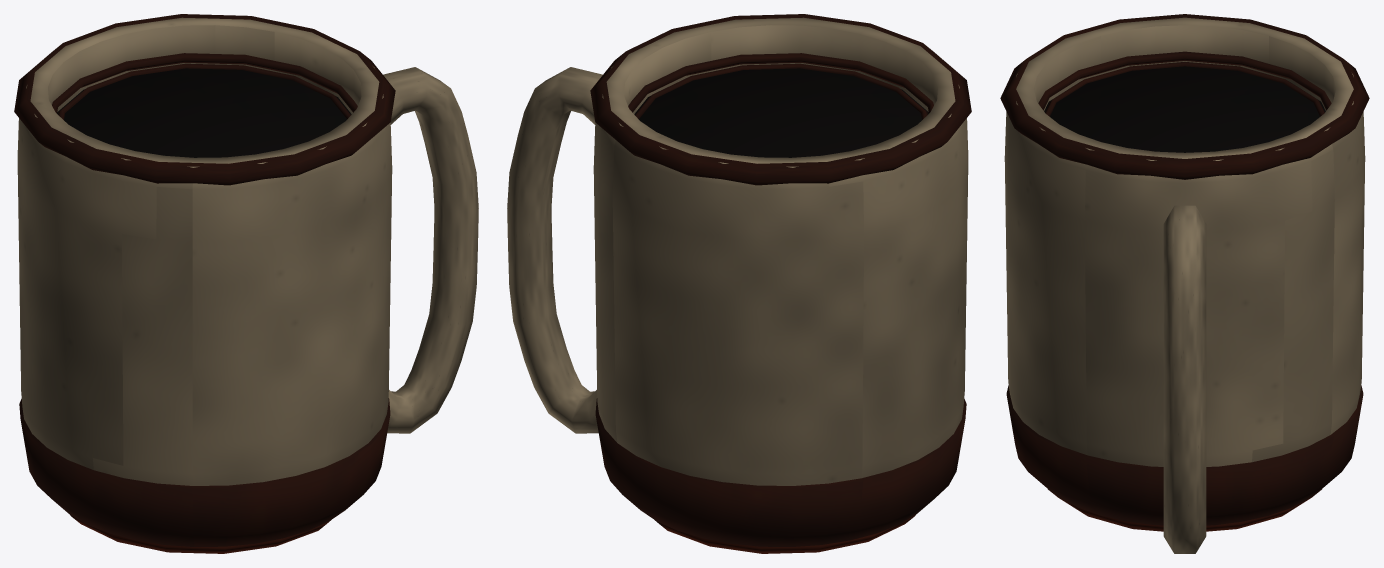
Rendered from ceramic_mug_LOD1.glb.
The picture shows the model from 3 angles, left to right: view 1: azimuth 30°, elevation 25°; view 2: azimuth 150°, elevation 25°; view 3: azimuth 270°, elevation 25°; orthographic projection. The views are drawn at different scales.
Visible parts, largest first — view 1: Thick hollow stoneware mug, Brown lower glaze band, Coffee surface, Rounded stoneware handle, Brown glazed rolled rim, Inner dark glaze line, Coffee meniscus, Unglazed bottom foot; view 2: Thick hollow stoneware mug, Brown lower glaze band, Coffee surface, Rounded stoneware handle, Brown glazed rolled rim, Inner dark glaze line, Coffee meniscus, Unglazed bottom foot; view 3: Thick hollow stoneware mug, Coffee surface, Brown lower glaze band, Rounded stoneware handle, Brown glazed rolled rim, Inner dark glaze line, Coffee meniscus, Unglazed bottom foot.
Part boxes in pixels (x1=…): Thick hollow stoneware mug: x1=17, y1=17, x2=392, y2=485; Brown lower glaze band: x1=19, y1=398, x2=390, y2=546; Coffee surface: x1=57, y1=68, x2=351, y2=157; Rounded stoneware handle: x1=383, y1=67, x2=478, y2=433; Brown glazed rolled rim: x1=14, y1=14, x2=395, y2=185; Inner dark glaze line: x1=52, y1=53, x2=357, y2=113; Coffee meniscus: x1=58, y1=63, x2=350, y2=119; Unglazed bottom foot: x1=70, y1=515, x2=330, y2=553; Thick hollow stoneware mug: x1=593, y1=17, x2=968, y2=485; Brown lower glaze band: x1=595, y1=398, x2=966, y2=546; Coffee surface: x1=634, y1=68, x2=928, y2=157; Rounded stoneware handle: x1=507, y1=67, x2=602, y2=433; Brown glazed rolled rim: x1=590, y1=14, x2=971, y2=185; Inner dark glaze line: x1=628, y1=53, x2=933, y2=113; Coffee meniscus: x1=635, y1=63, x2=927, y2=119; Unglazed bottom foot: x1=655, y1=515, x2=915, y2=553; Thick hollow stoneware mug: x1=1004, y1=17, x2=1365, y2=466; Coffee surface: x1=1044, y1=66, x2=1325, y2=152; Brown lower glaze band: x1=1006, y1=385, x2=1363, y2=525; Rounded stoneware handle: x1=1163, y1=205, x2=1206, y2=553; Brown glazed rolled rim: x1=1000, y1=14, x2=1369, y2=179; Inner dark glaze line: x1=1038, y1=51, x2=1331, y2=110; Coffee meniscus: x1=1045, y1=62, x2=1324, y2=116; Unglazed bottom foot: x1=1048, y1=489, x2=1321, y2=531.
Bounding box in the file's own units: 0.1405 × 0.125 × 0.1076.
Materials: 4 (4 with a texture image).
